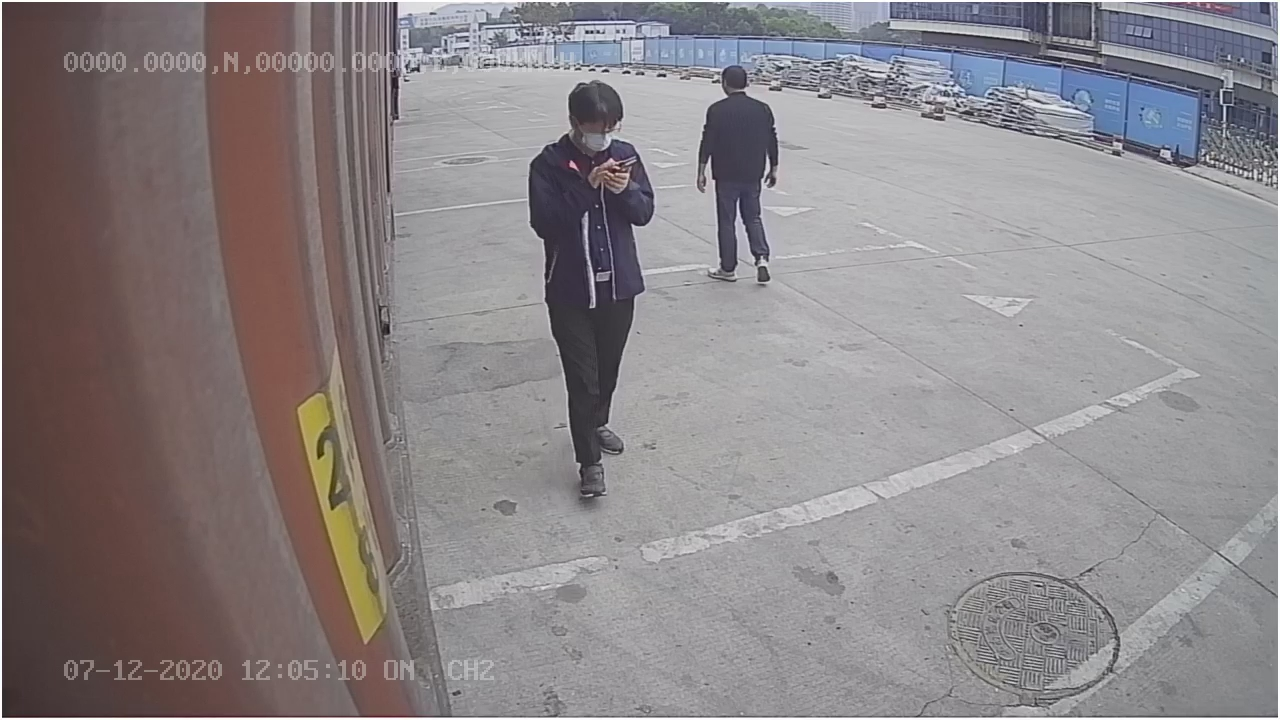person: (523, 78, 656, 498), (692, 62, 784, 291)
